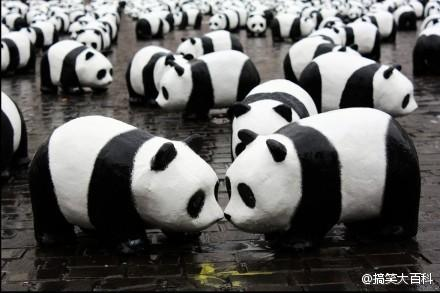panda: (225, 106, 422, 263), (27, 108, 225, 261)
